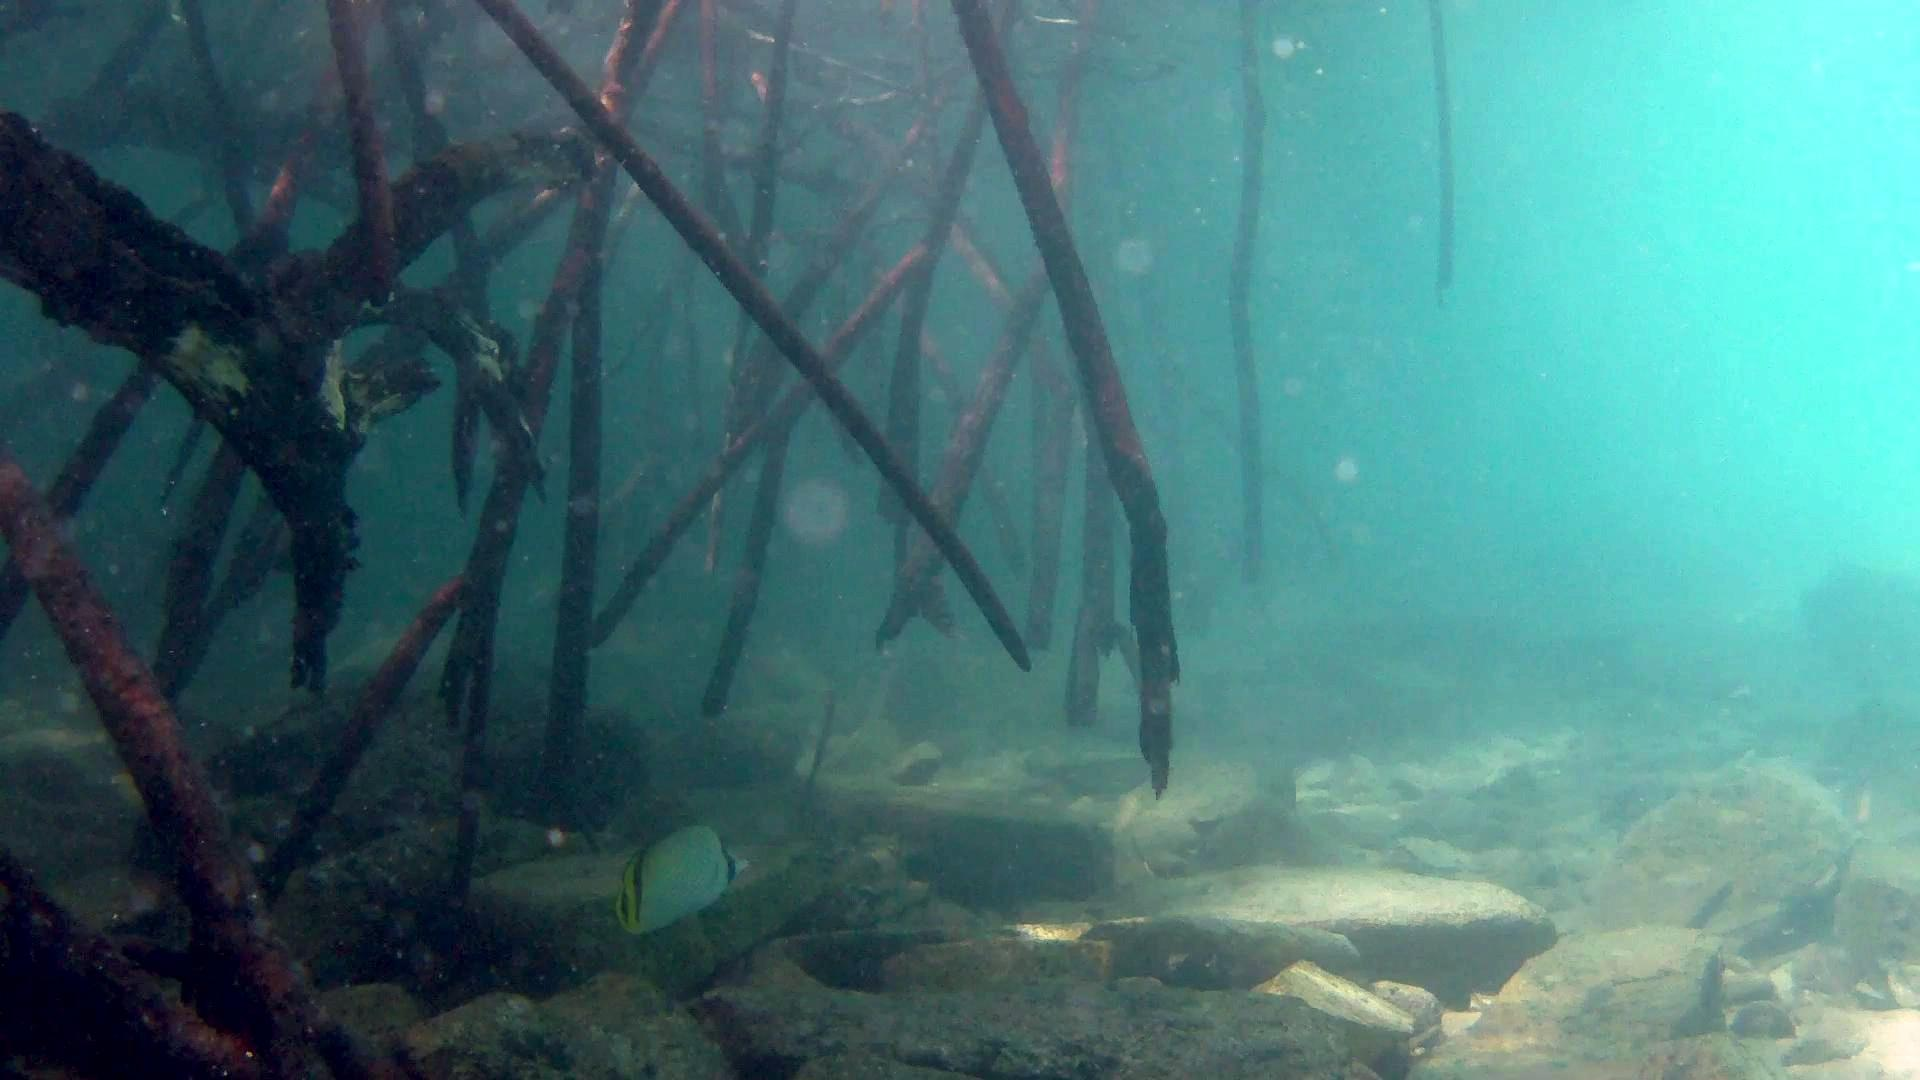chaetodon vagabundus: (612, 822, 754, 939)
